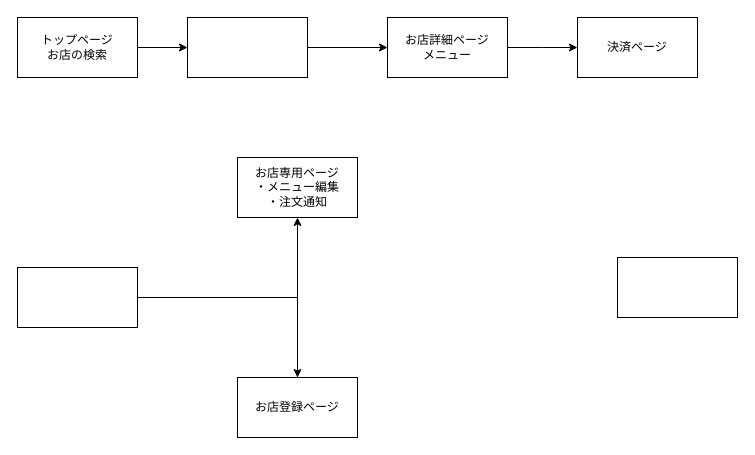
Some shapes in this 755 by 455 pixel diagram are drawn without their labels. Here are the shapes that lost their labels. From the top down, the centre of each, then its label:
At (x=247, y=47): "検索結果画面".
At (x=77, y=297): "ログイン画面".
At (x=677, y=287): "サインイン画面".
